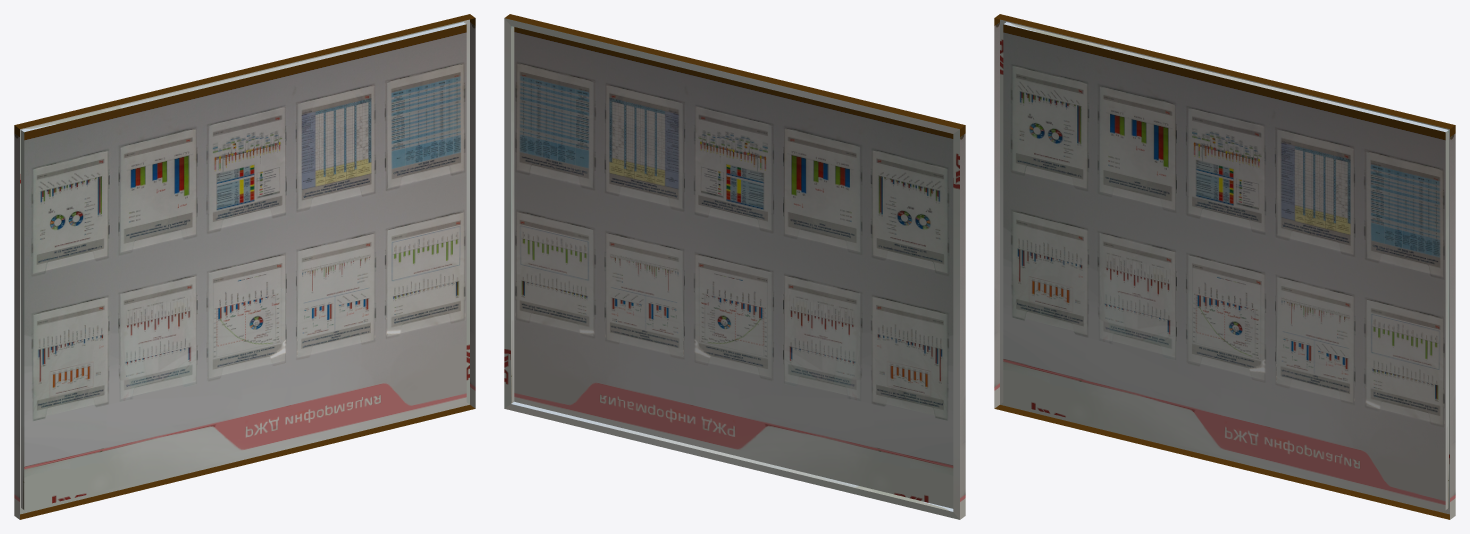
The model's file is Tablet1.fbx.
3 views of the same model, side by side, from view 1: azimuth 30°, elevation 25°; view 2: azimuth 150°, elevation 25°; view 3: azimuth 330°, elevation 25° (orthographic).
Visible parts, largest first — view 1: Tablet1_low; view 2: Tablet1_low; view 3: Tablet1_low.
Part boxes in pixels (bbox=[...]): Tablet1_low: bbox=[14, 14, 475, 519]; Tablet1_low: bbox=[504, 14, 965, 519]; Tablet1_low: bbox=[994, 14, 1455, 519].
Size of the model in its own units: 1.45 by 1.19 by 0.0309.
